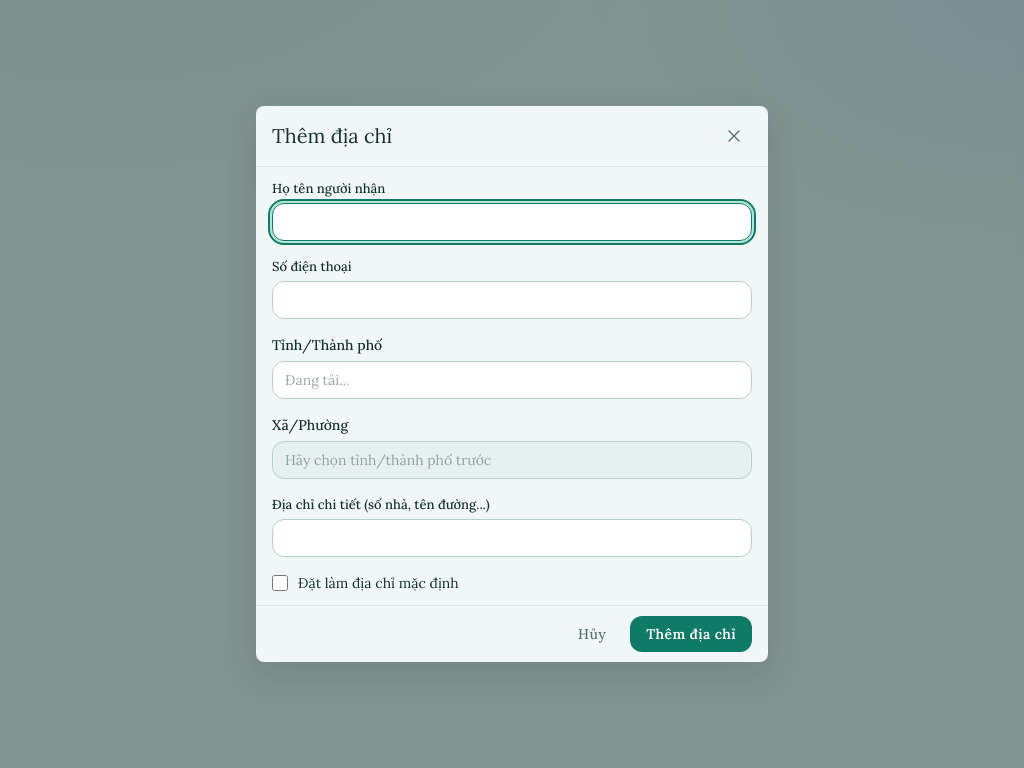
Test: AddressForm › ô chọn có tìm kiếm theo gõ, không phân biệt dấu
The width and height of the screenshot is (1024, 768).
Focus the dropdown labelled "Tỉnh/Thành phố" at (512, 380), box x1=272 y1=361 x2=752 y2=399
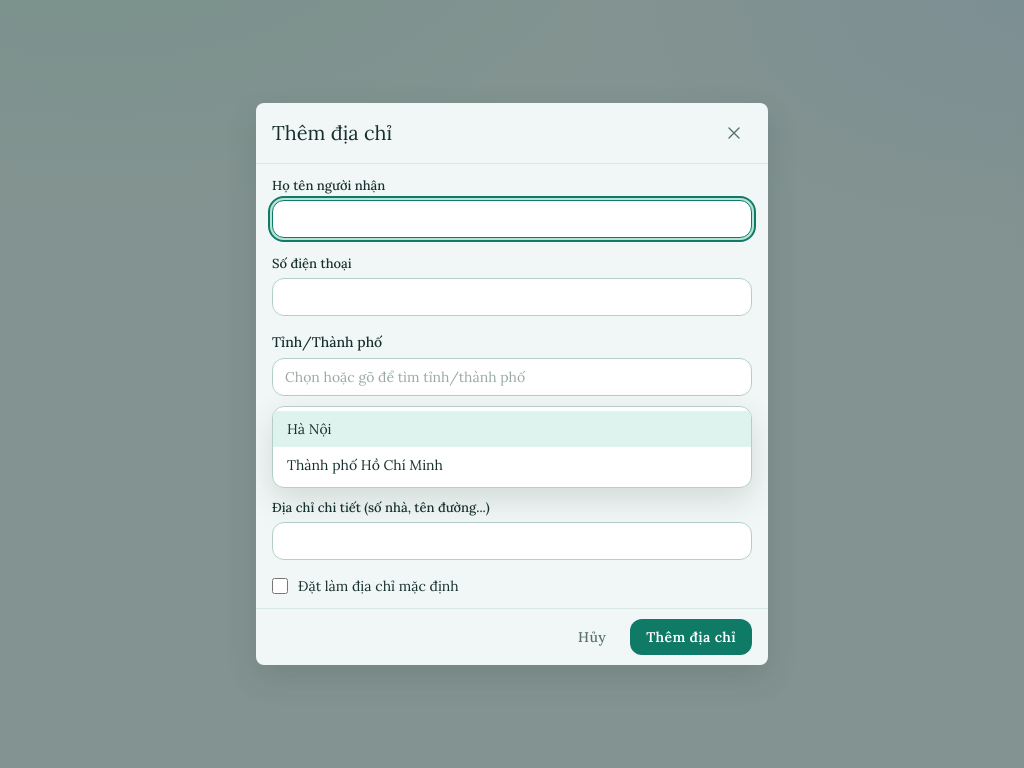
Press the mouse on the option "Hà Nội" at (309, 429), box x1=273 y1=411 x2=751 y2=447
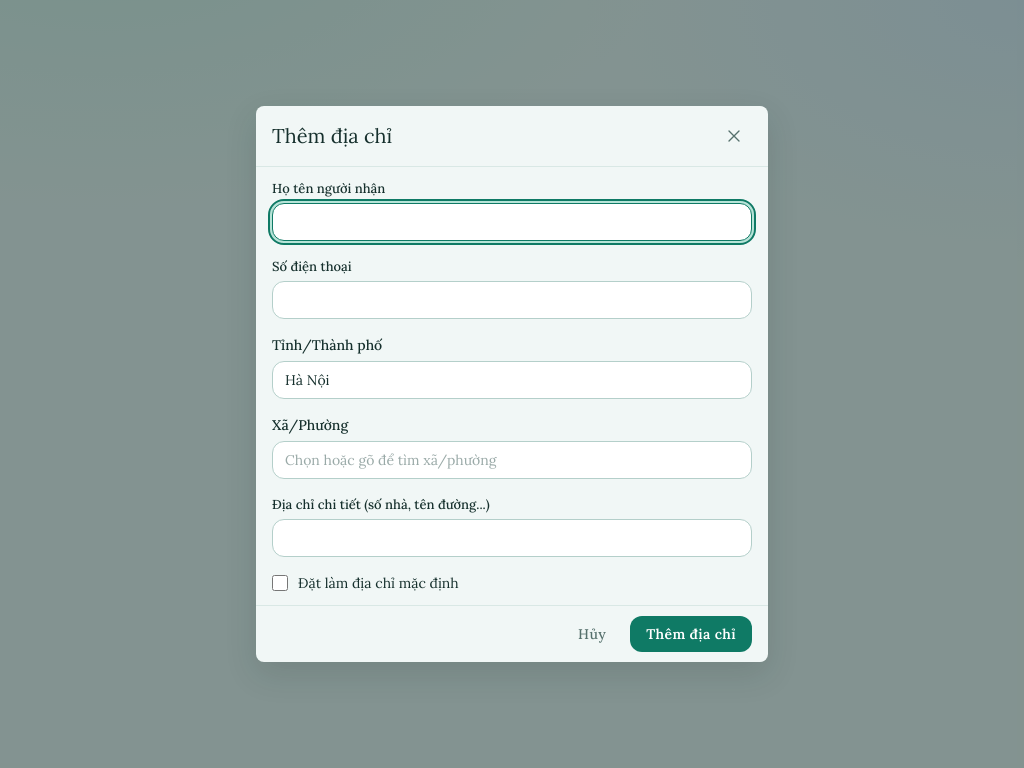
Expected: the dropdown labelled "Xã/Phường" is enabled
Focus the dropdown labelled "Xã/Phường" at (512, 460), box x1=272 y1=441 x2=752 y2=479
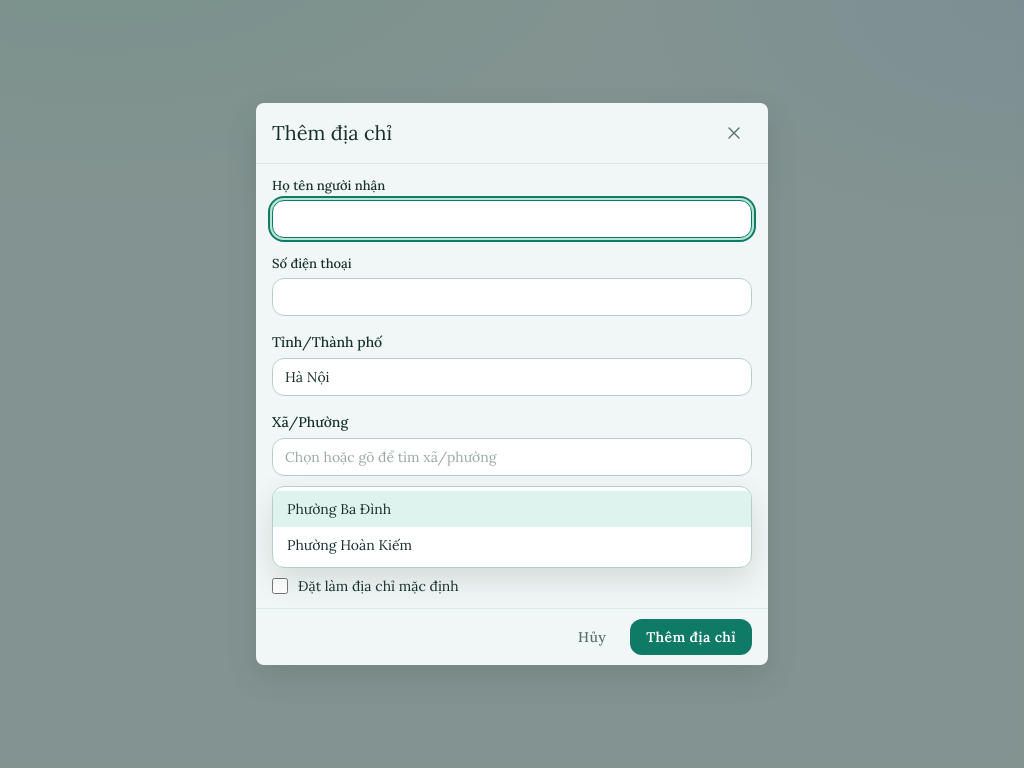
Type "hoan kiem" into the dropdown labelled "Xã/Phường" at (512, 457), box x1=272 y1=438 x2=752 y2=476
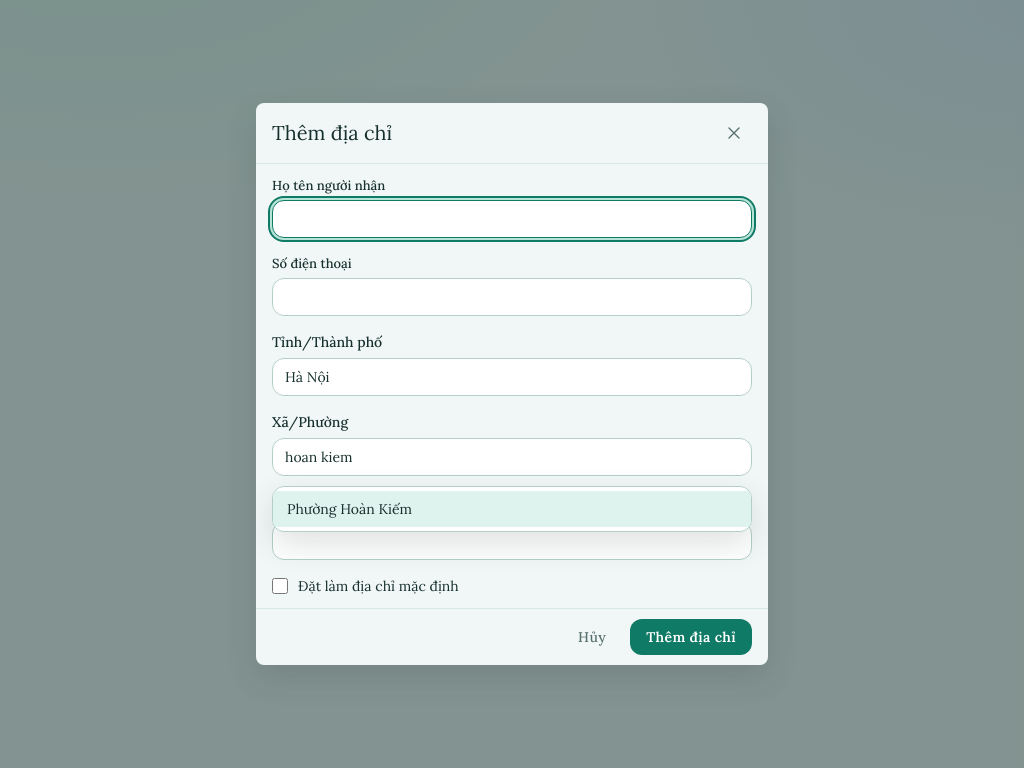
Expected: the option "Phường Hoàn Kiếm" is shown, x1=273 y1=491 x2=751 y2=527
Expected: the option "Phường Ba Đình" is gone
